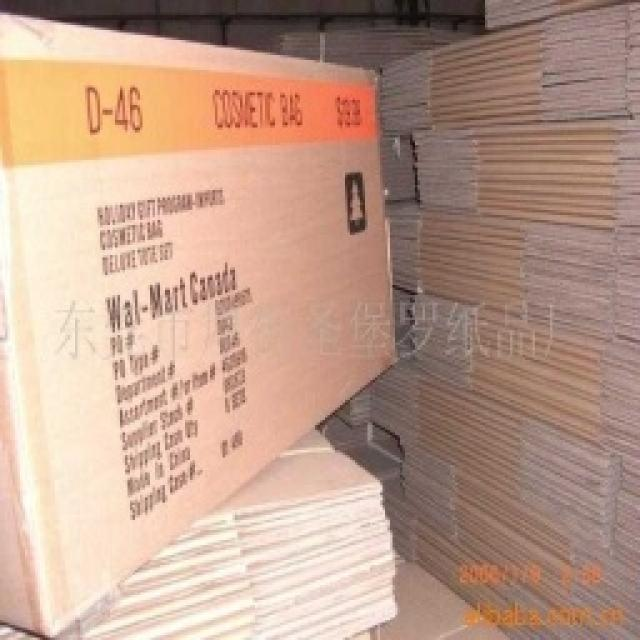box: (0, 10, 409, 628)
